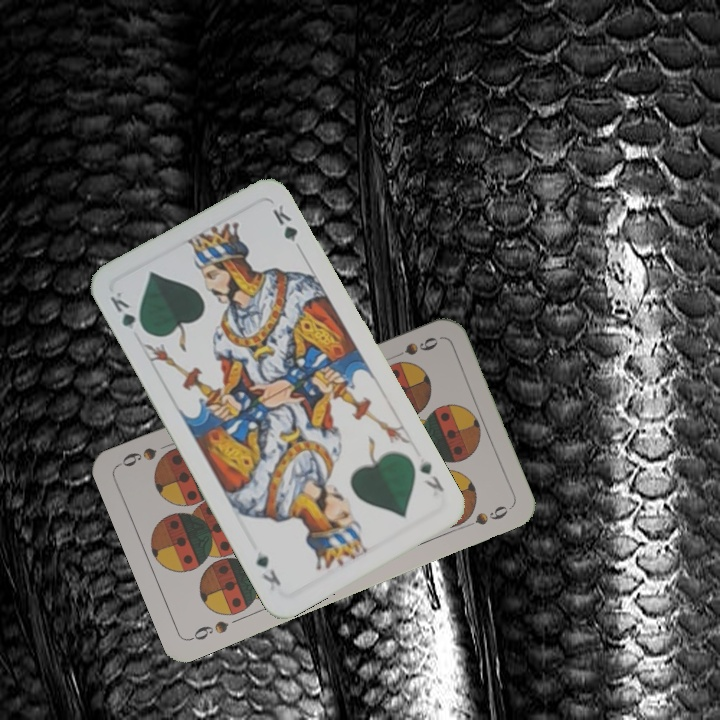GK: (105, 287, 149, 337), (415, 456, 447, 495)
S9: (385, 333, 441, 363), (186, 616, 231, 643)
